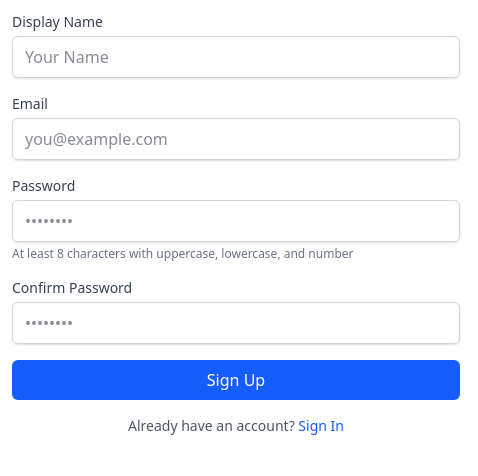
it: RegisterForm › shows error for duplicate email (409)
Type "Test User" into the field labelled "Display Name" at (236, 57), box [12,36,460,78]
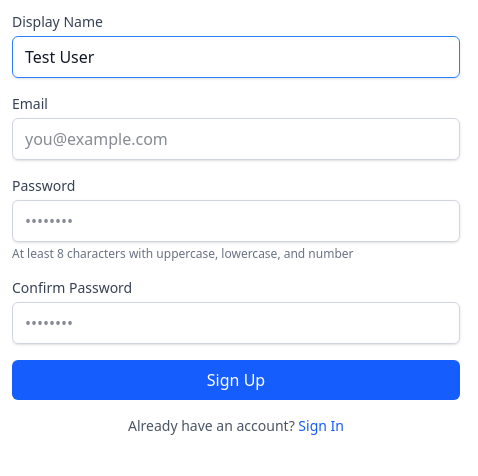
Type "existing@example.com" into the field labelled "Email" at (236, 139), box [12,118,460,160]
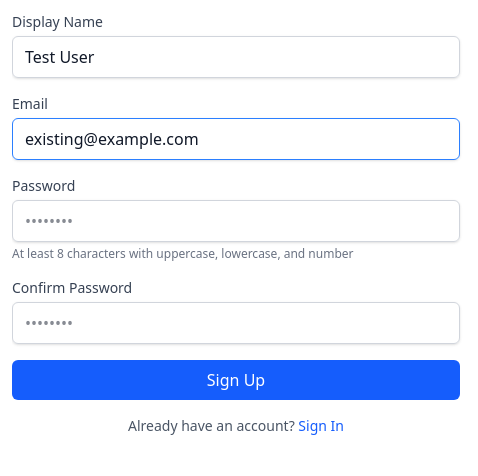
Type "ValidPassword123" into the password field labelled "Password" at (236, 221), box [12,200,460,242]
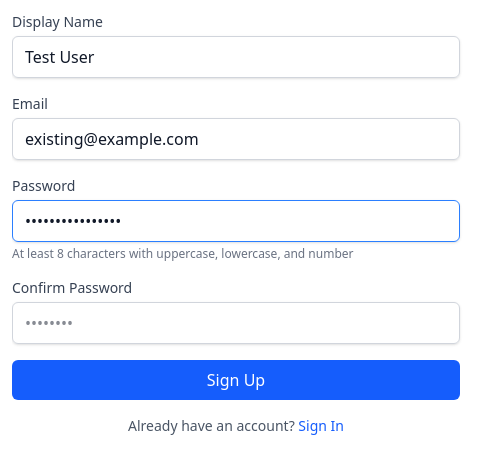
Type "ValidPassword123" into the password field labelled "Confirm Password" at (236, 323), box [12,302,460,344]
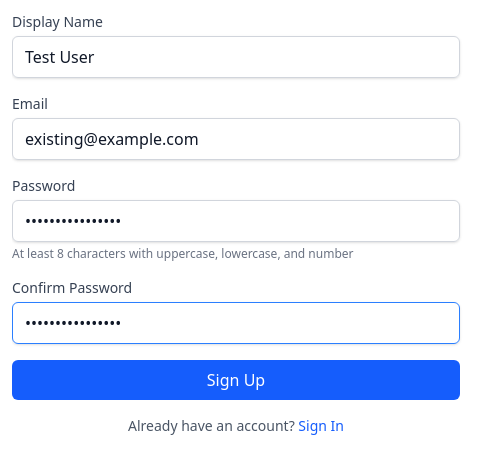
Click the button "Sign Up" at (236, 380), box [12,360,460,400]
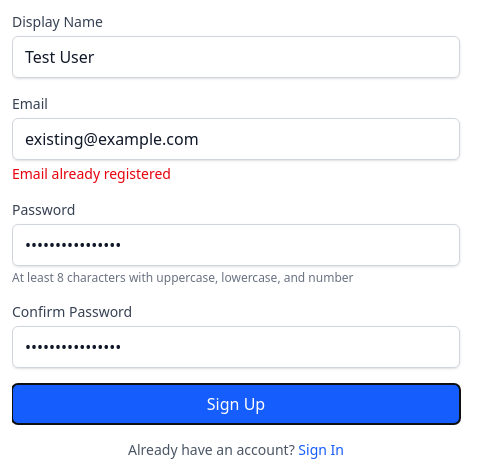
Expected: the text "Email already registered" is shown, [12,164,171,183]
